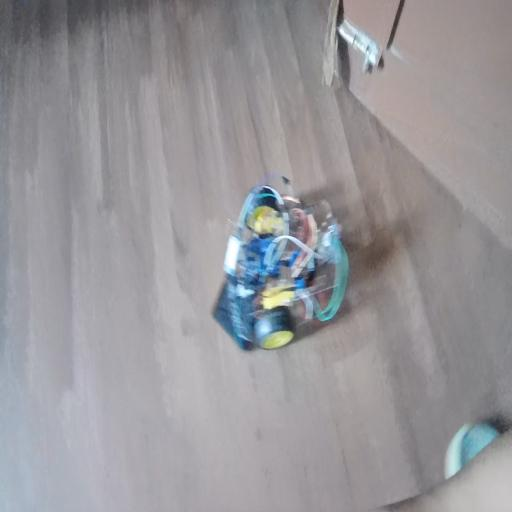car: (239, 197, 337, 331)
